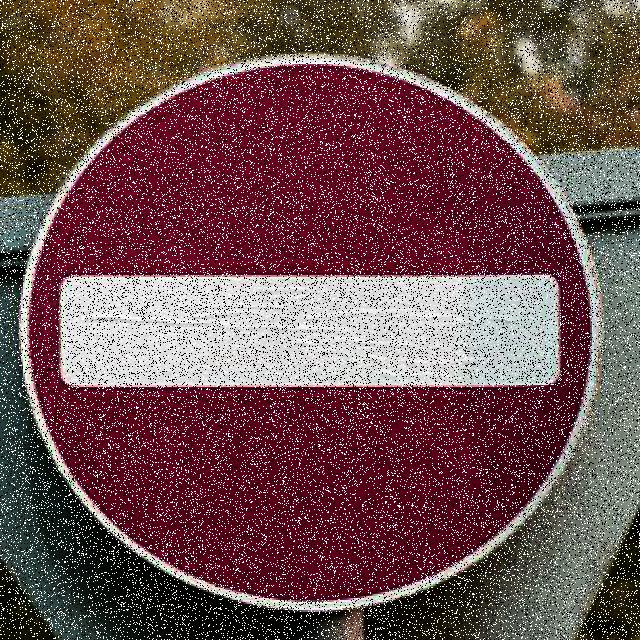no entry: (21, 52, 604, 610)
